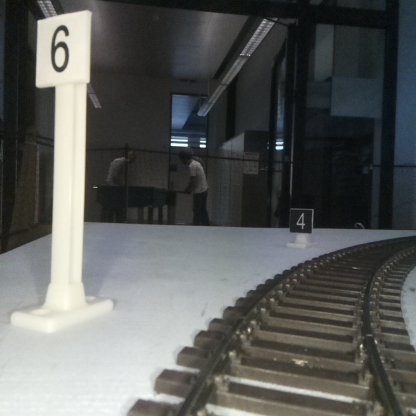black-stop-4: (290, 207, 312, 246)
white-info-6: (36, 13, 89, 323)
